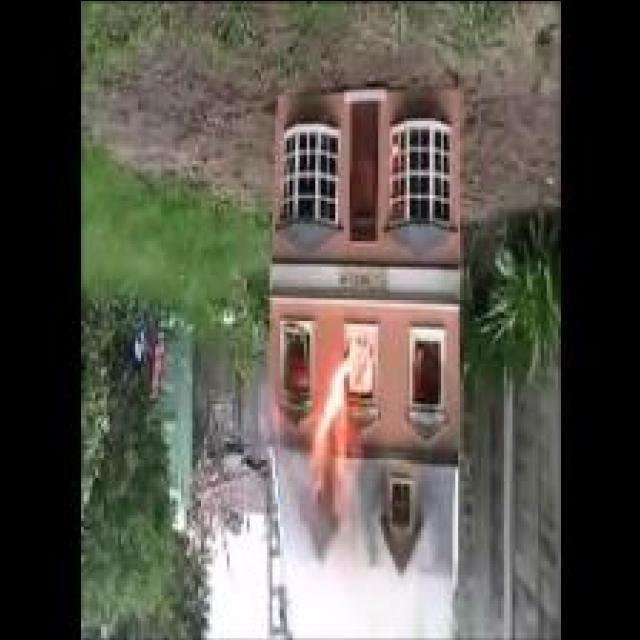Fire: (310, 333, 370, 510)
